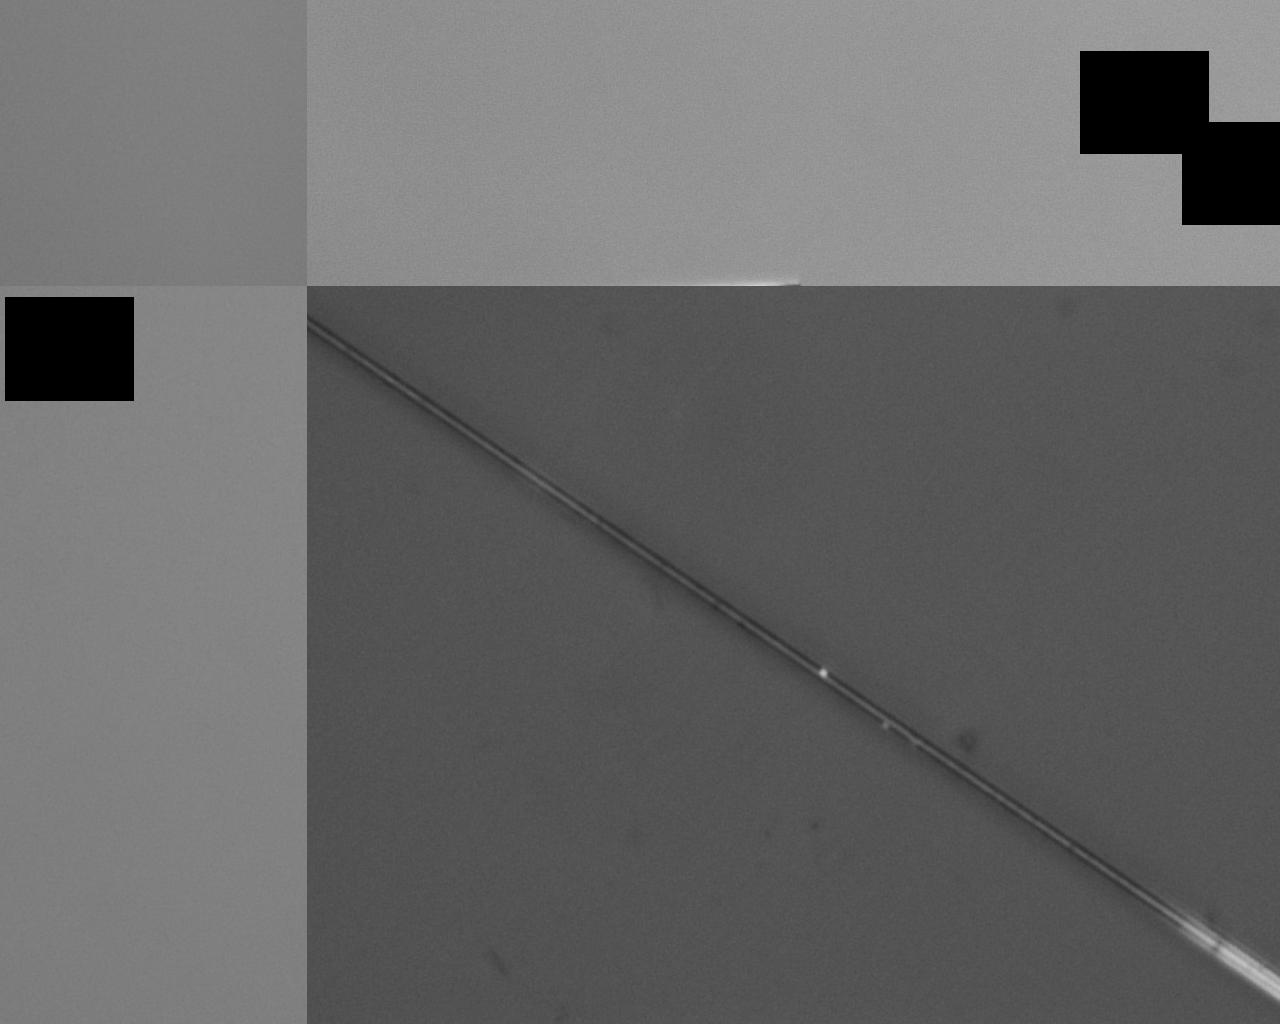fiber: (270, 583, 594, 1024)
